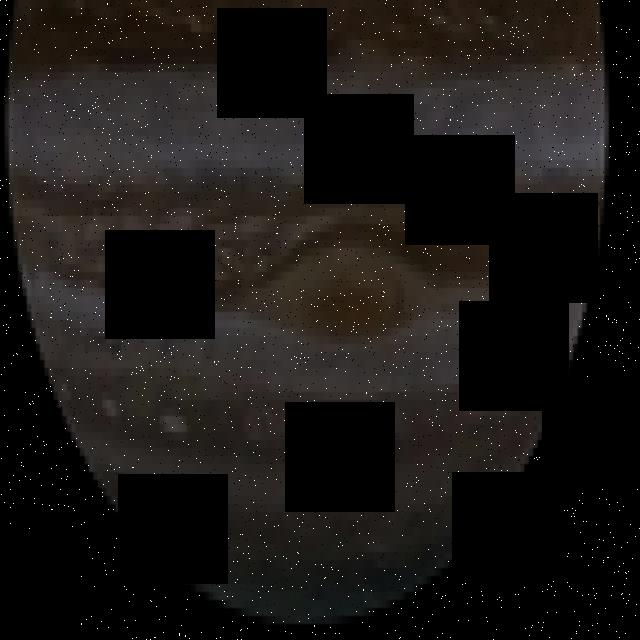Jupiter: (4, 0, 608, 624)
